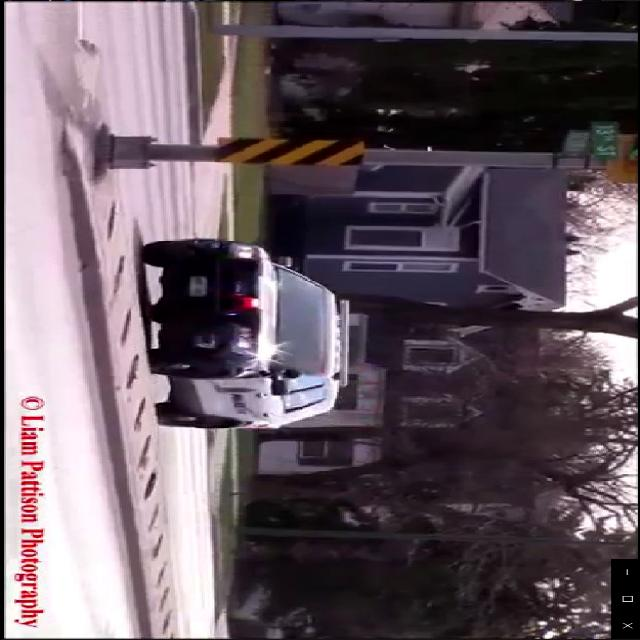emergency: (130, 230, 358, 434)
